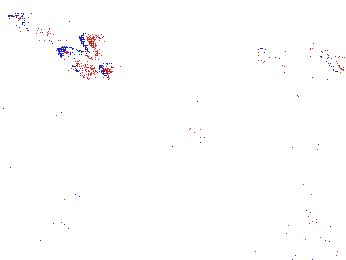X-ray fish: (87, 80, 143, 121)
glassfish: (186, 127, 263, 183)
redtail glassfish: (7, 11, 102, 59), (252, 38, 346, 76), (57, 44, 116, 88)
